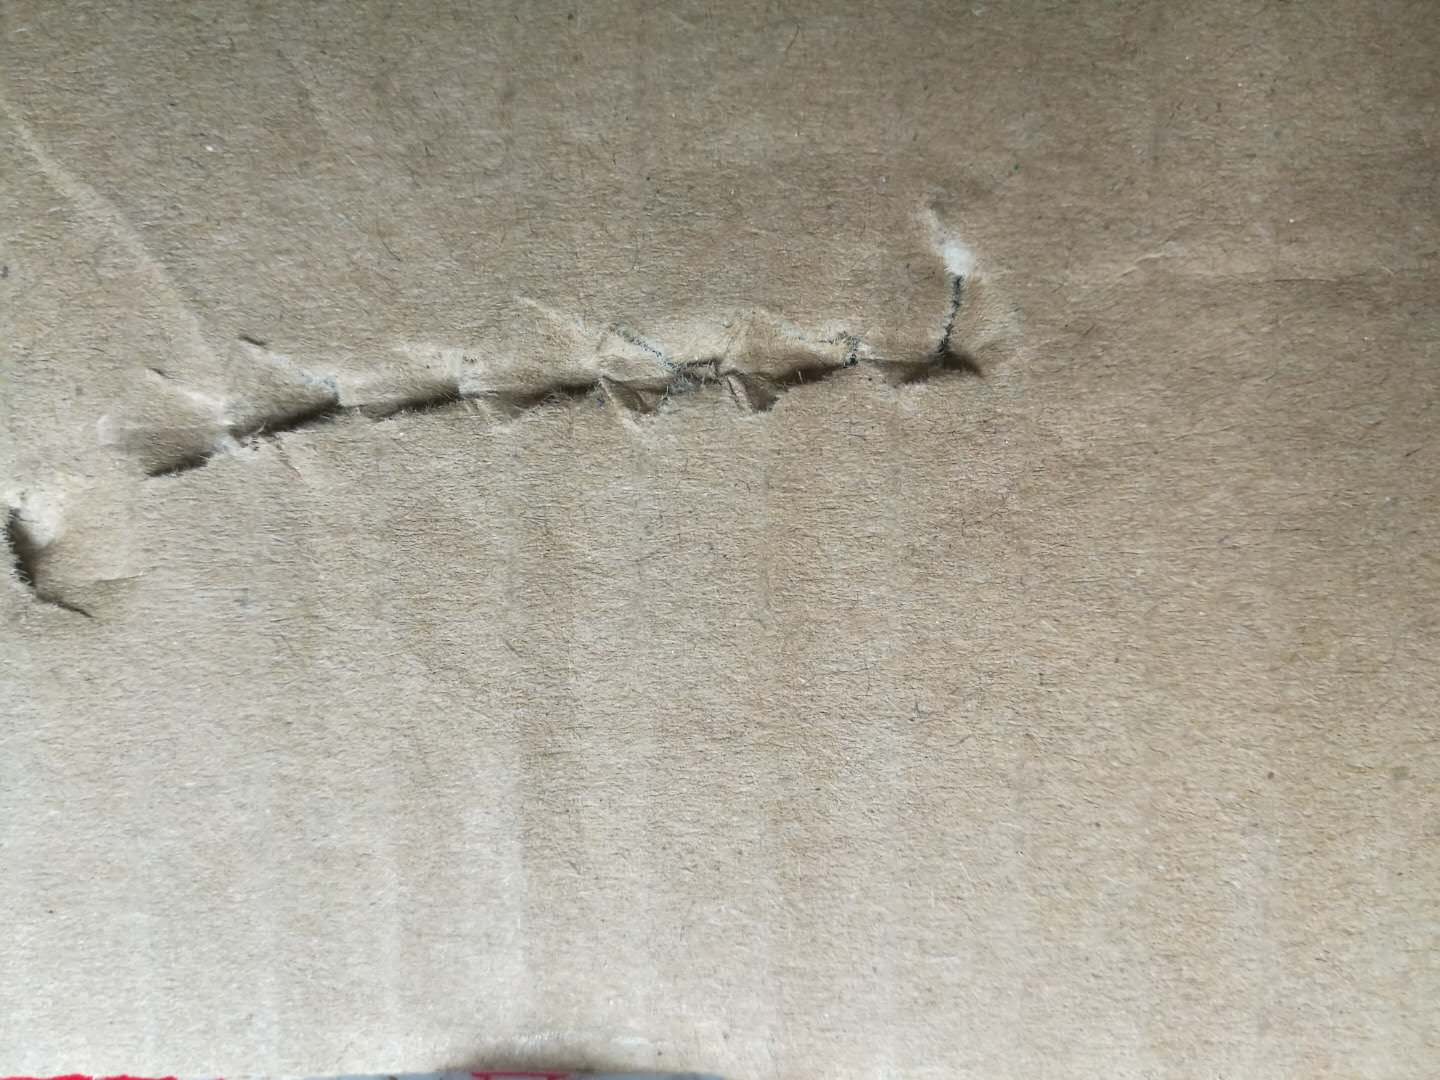defect: (5, 92, 1434, 636)
